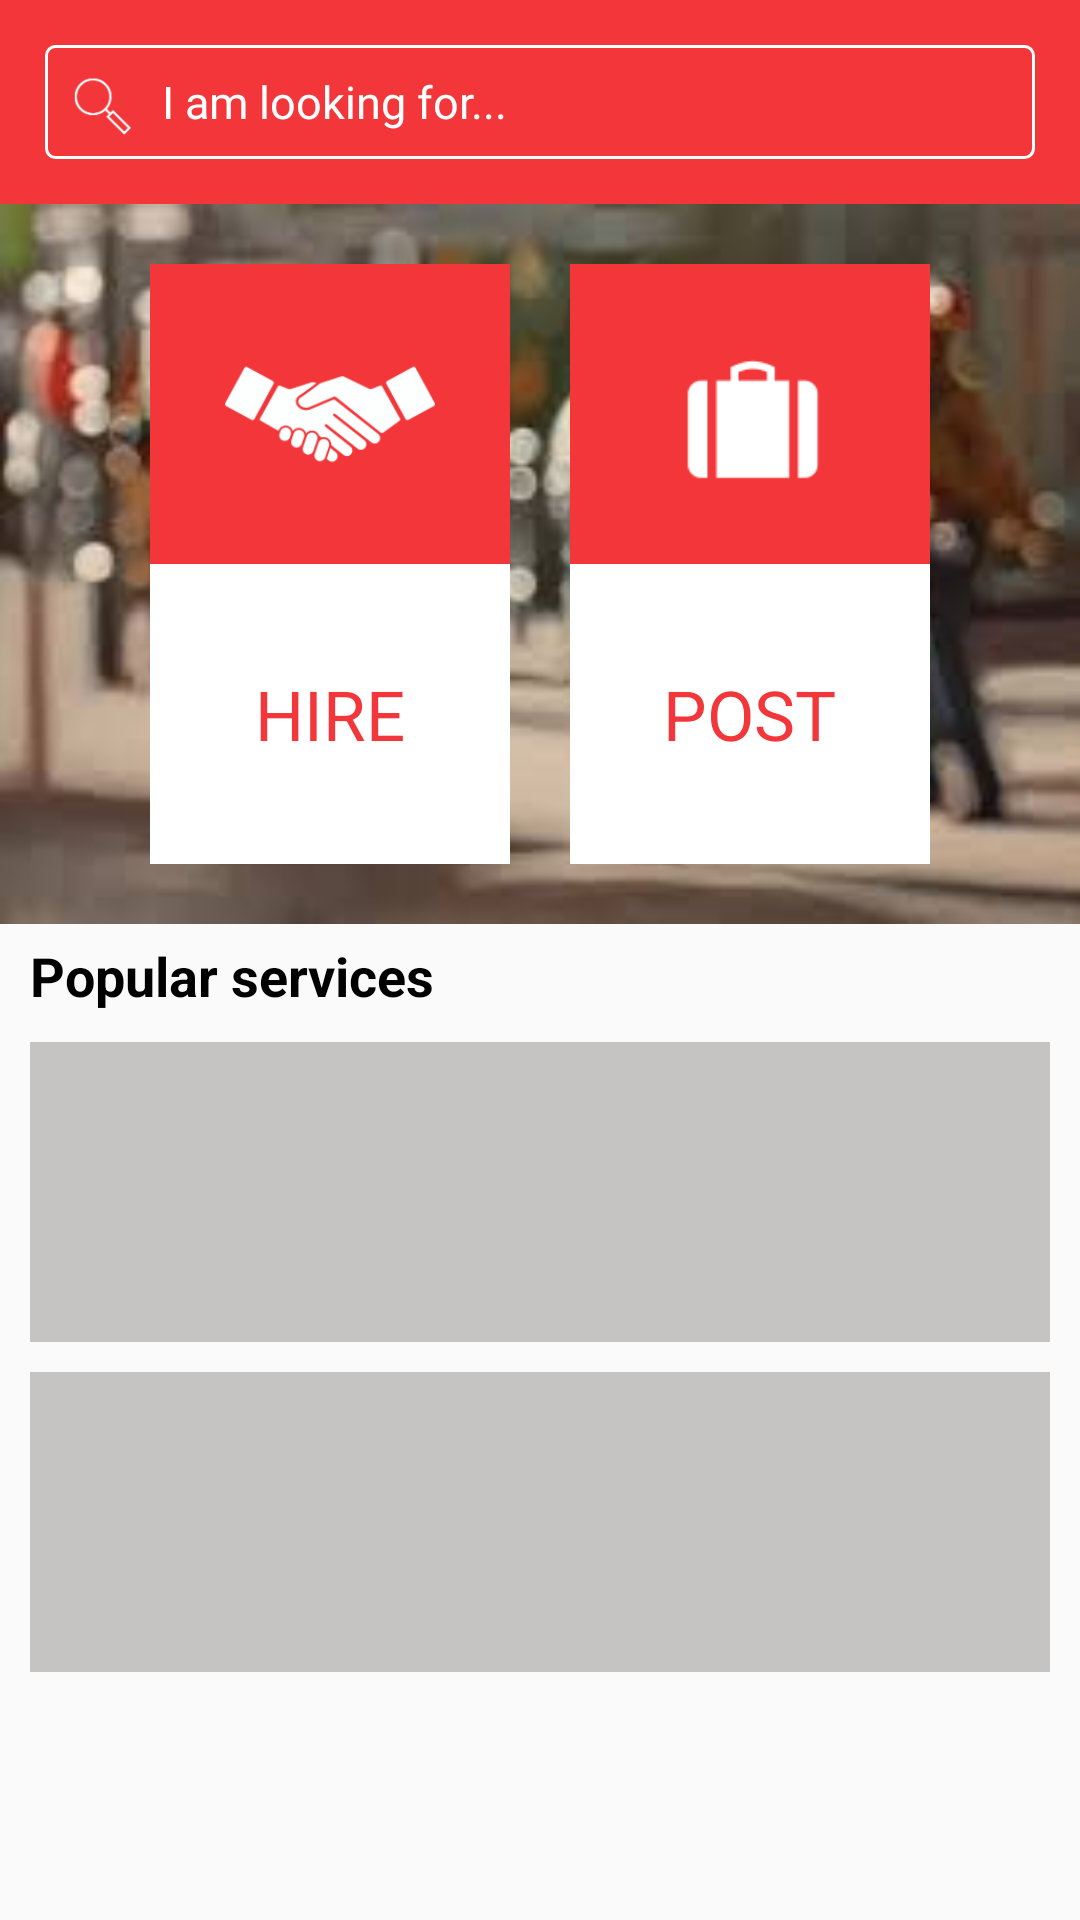

Named icons in this screenshot (1080 x 1920) and their centers, (x=x, y=y):
briefcase: (x=753, y=419)
handshake: (x=330, y=414)
search: (x=102, y=106)
